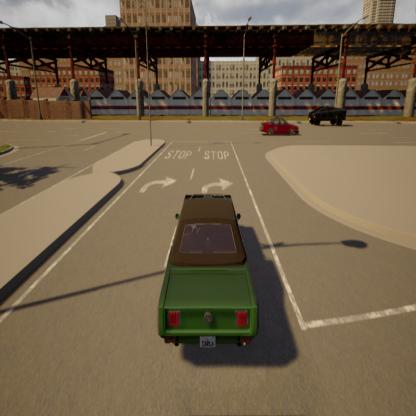Cars: (156, 192, 260, 350), (261, 112, 300, 135), (308, 103, 344, 125)
